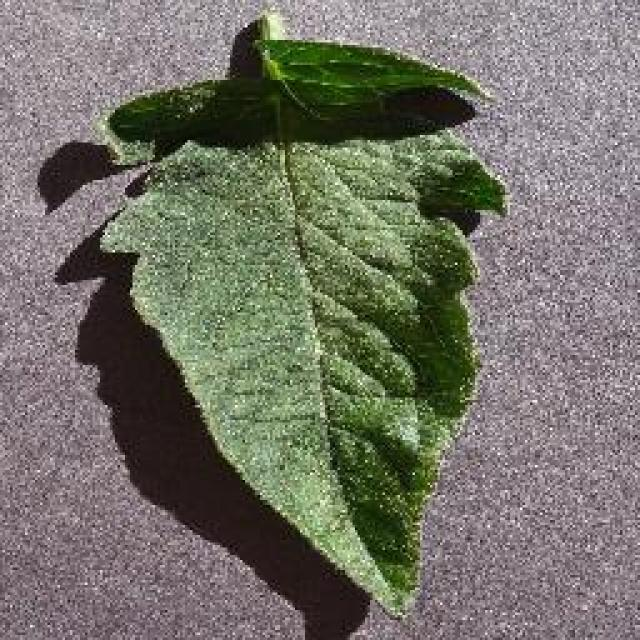Tomato___healthy: (87, 9, 512, 625)
